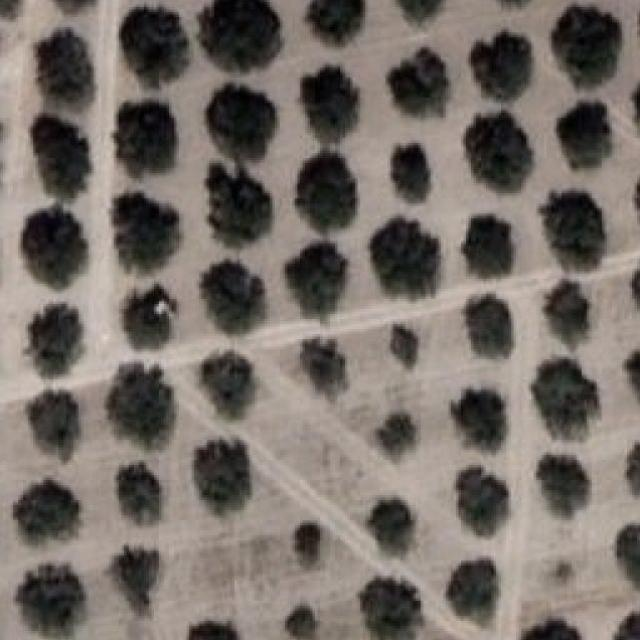Tree: (551, 5, 622, 88), (372, 216, 441, 299), (199, 0, 280, 70), (21, 206, 88, 290), (207, 83, 279, 161), (464, 111, 533, 192), (531, 359, 600, 440), (109, 364, 174, 447), (209, 163, 273, 247), (539, 190, 605, 271), (114, 193, 179, 274), (122, 7, 188, 86), (31, 115, 92, 200), (295, 151, 358, 233), (16, 566, 86, 638), (197, 259, 267, 330), (285, 242, 348, 320), (471, 30, 534, 102), (302, 65, 360, 143), (117, 101, 176, 176), (194, 440, 253, 515), (13, 480, 80, 545), (35, 30, 94, 103), (388, 47, 450, 116), (28, 304, 84, 379), (359, 577, 422, 640), (28, 389, 80, 462), (456, 467, 509, 537), (202, 352, 256, 420), (559, 103, 613, 170), (124, 284, 178, 349), (451, 389, 506, 452), (112, 545, 161, 614), (449, 557, 500, 623), (544, 279, 590, 349), (539, 452, 593, 510), (466, 294, 515, 357), (464, 216, 513, 278), (303, 339, 348, 401), (119, 463, 163, 524), (368, 500, 415, 556), (307, 0, 364, 44), (393, 143, 428, 200), (378, 412, 418, 460), (617, 525, 640, 589), (391, 324, 418, 367), (285, 606, 318, 640), (523, 621, 582, 640), (295, 524, 323, 562), (622, 443, 640, 498), (397, 0, 444, 21), (189, 621, 240, 640), (624, 347, 640, 403), (554, 558, 584, 586), (617, 608, 640, 640), (493, 0, 538, 15), (630, 80, 640, 135), (629, 267, 640, 316), (634, 173, 640, 211)
